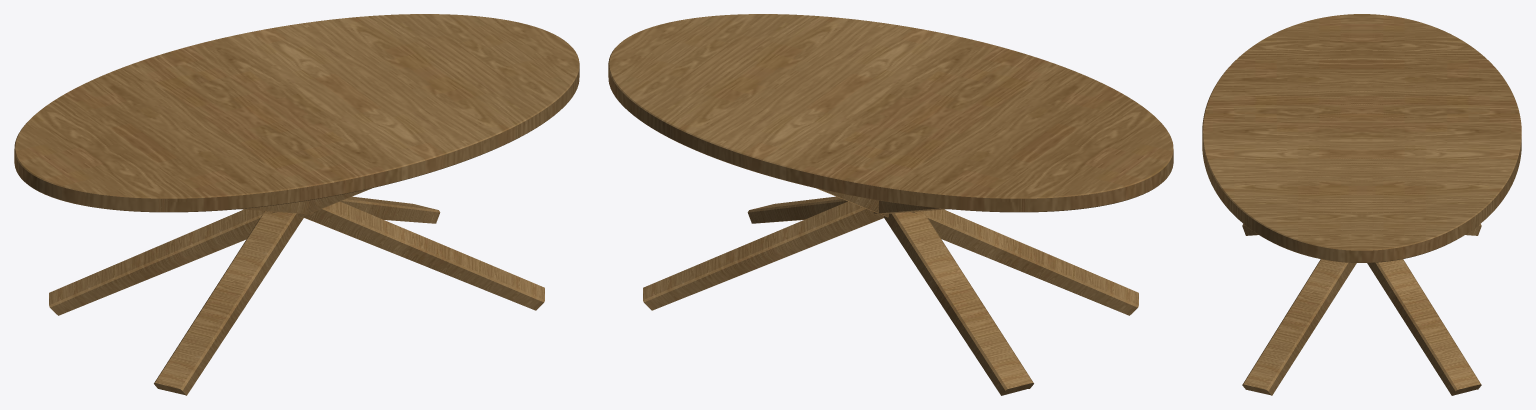
File: ellipse-oak.glb
3 renders of one model, left to right at view 1: azimuth 30°, elevation 25°; view 2: azimuth 150°, elevation 25°; view 3: azimuth 270°, elevation 25°, orthographic. The views are drawn at different scales.
Parts seen in each view (by area): view 1: Wood_Ellipse, Base_Ellipse; view 2: Wood_Ellipse, Base_Ellipse; view 3: Wood_Ellipse, Base_Ellipse.
Part boxes in pixels (<box>): Wood_Ellipse: <box>14,14,579,212</box>; Base_Ellipse: <box>49,188,544,395</box>; Wood_Ellipse: <box>608,14,1173,212</box>; Base_Ellipse: <box>643,188,1138,395</box>; Wood_Ellipse: <box>1202,14,1521,262</box>; Base_Ellipse: <box>1242,224,1481,395</box>.
Size of the model in its own units: 2.13 by 0.762 by 1.22.
Materials: 1 (1 with a texture image).
